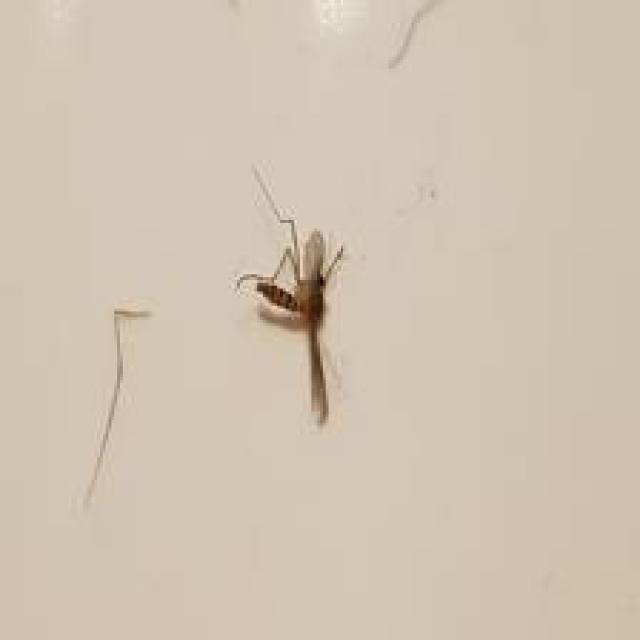Culex: (233, 162, 347, 427)
